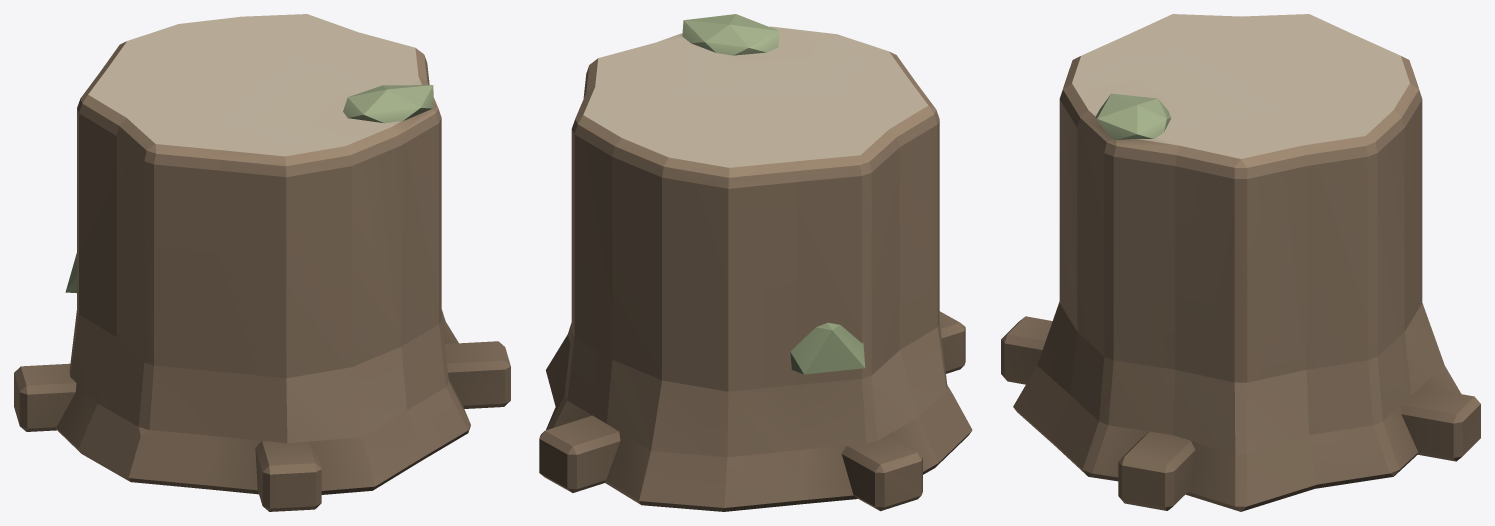
The model's file is log_stool.glb.
3 views of the same model, side by side, from view 1: azimuth 30°, elevation 25°; view 2: azimuth 150°, elevation 25°; view 3: azimuth 270°, elevation 25° (orthographic).
Parts seen in each view (by area): view 1: log_stool; view 2: log_stool; view 3: log_stool.
Boxes of the visible parts, bbox=[...] form: log_stool: bbox=[14, 14, 510, 511]; log_stool: bbox=[539, 14, 972, 511]; log_stool: bbox=[1001, 14, 1480, 511].
Size of the model in its own units: 0.5552 by 0.4394 by 0.5552.
